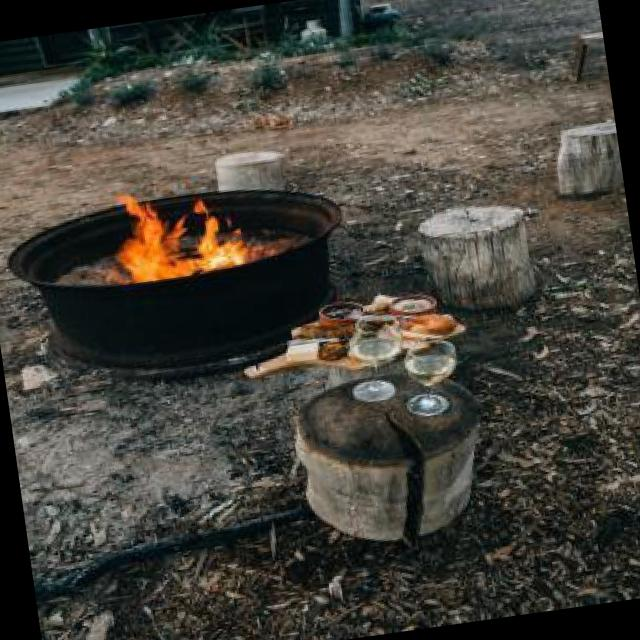Fire: (102, 174, 282, 286)
